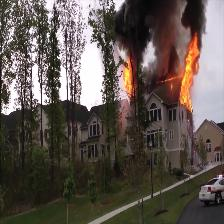fire: (179, 45, 201, 104), (122, 59, 131, 96)
smoke: (120, 2, 201, 41)
